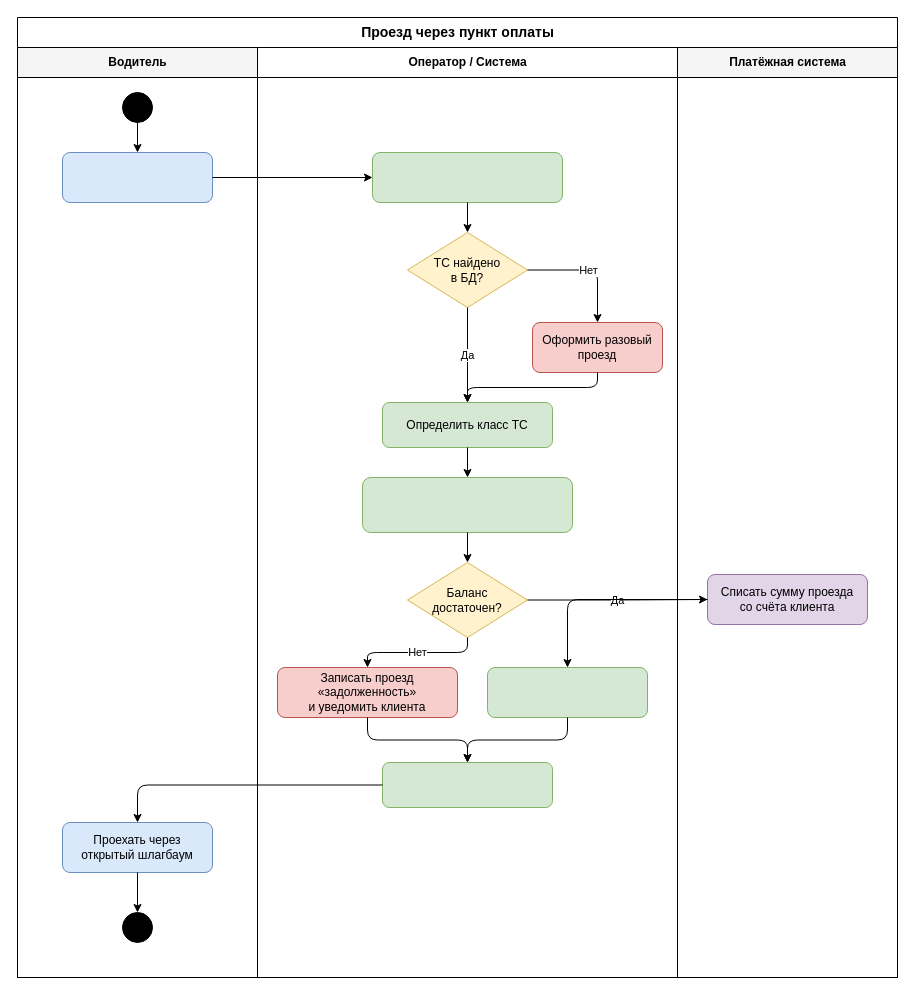
This 915x995 diagram has some shape labels left out. Here are the shapes that lost their labels. From the top down, the centre of each, then its label:
At [137,177]: "Подъехать к пункту оплаты (ПВП)".
At [467,177]: "Идентифицировать ТС по транспондеру или гос. номеру".
At [467,504]: "Рассчитать стоимость (|км_выезда - км_въезда| × тариф)".
At [567,692]: "Записать проезд со статусом «оплачен»".
At [467,785]: "Открыть шлагбаум".
